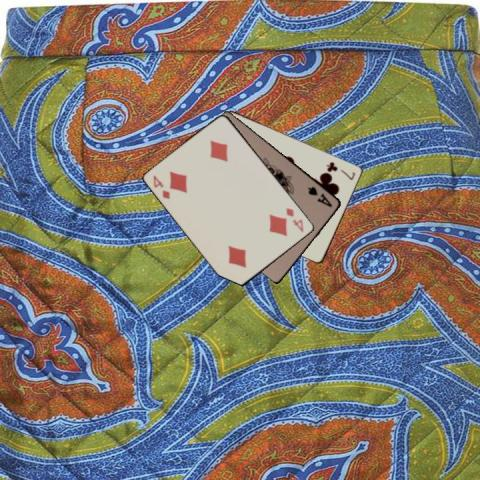4d: (284, 205, 306, 233), (150, 172, 171, 201)
7c: (324, 159, 357, 181)
As: (305, 183, 334, 209)
